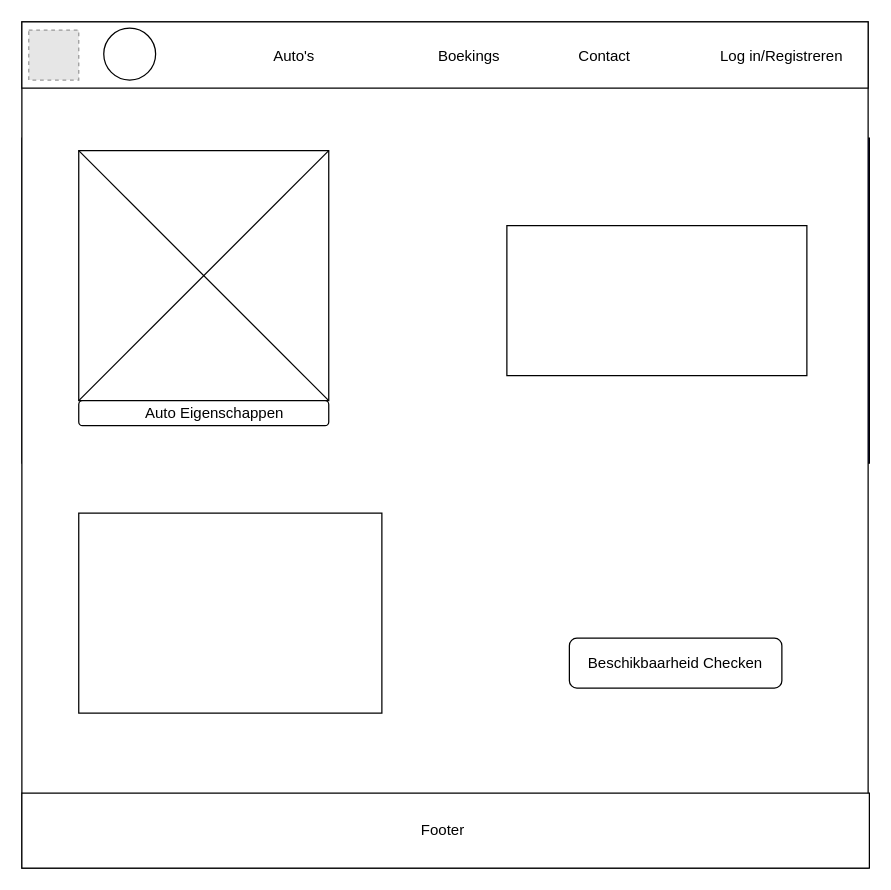
Image size: 891x890. Some labels were removed from this diagram. Grey dashed boxes stand in for pictures. The shapes that lost their labels are listed below. From the top down, each one's centre as x and y in pixels, then its label:
At point (656, 300): "Prijs Hoeveelheid Km Standaard Tarief Extra Km".
At point (230, 612): "Verzekering 1. Geen extra bescherming. 2. Bronze 3. Gold 4. Diamond".
